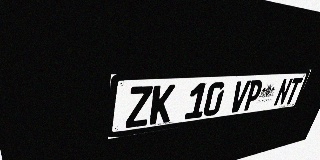0: (202, 82, 226, 117)
1: (184, 83, 209, 120)
K: (149, 84, 176, 125)
N: (273, 78, 293, 106)
P: (242, 80, 264, 111)
T: (283, 78, 303, 105)
V: (228, 80, 251, 113)
Z: (125, 86, 153, 128)
